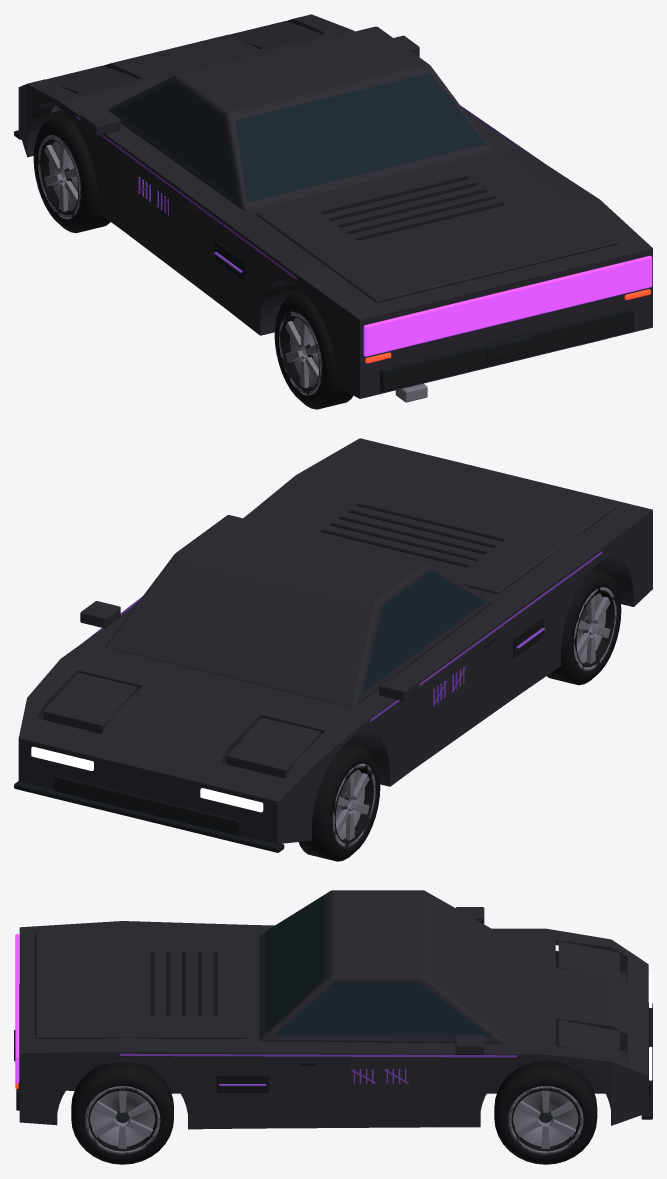
Rendered from ns-vesper-01.glb.
The picture shows the model from 3 angles, top to bottom: view 1: azimuth 30°, elevation 25°; view 2: azimuth 150°, elevation 25°; view 3: azimuth 270°, elevation 25°; orthographic projection. The views are drawn at different scales.
Parts seen in each view (by area): view 1: coachwork, engine-deck, rear-glass, forward-canopy, tail-band, canopy-glass-left, rear-valance, tire-front-left, tire-rear-left, popup-lid-left, popup-lid-right, rim-front-left (+4 smaller); view 2: coachwork, forward-canopy, engine-deck, canopy-glass-left, tire-front-left, tire-rear-left, popup-lid-right, popup-lid-left, nose-intake, front-lip, rim-rear-left, rim-front-left (+5 smaller); view 3: coachwork, engine-deck, forward-canopy, canopy-glass-right, rear-glass, tire-front-right, tire-rear-right, rim-front-right, rim-rear-right, popup-lid-left, popup-lid-right, violet-shoulder-right (+3 smaller).
Boxes of the visible parts, left/top/right/bottom form: coachwork: left=18, top=14, right=652, bottom=398; engine-deck: left=256, top=154, right=617, bottom=302; rear-glass: left=236, top=73, right=485, bottom=202; forward-canopy: left=108, top=26, right=492, bottom=211; tail-band: left=363, top=255, right=652, bottom=356; canopy-glass-left: left=114, top=83, right=237, bottom=199; rear-valance: left=380, top=308, right=633, bottom=391; tire-front-left: left=33, top=115, right=110, bottom=233; tire-rear-left: left=274, top=293, right=353, bottom=409; popup-lid-left: left=46, top=65, right=137, bottom=93; popup-lid-right: left=229, top=21, right=320, bottom=48; rim-front-left: left=38, top=135, right=80, bottom=219; coachwork: left=18, top=438, right=652, bottom=843; forward-canopy: left=105, top=515, right=492, bottom=707; engine-deck: left=268, top=445, right=618, bottom=594; canopy-glass-left: left=362, top=570, right=485, bottom=693; tire-front-left: left=298, top=743, right=380, bottom=861; tire-rear-left: left=546, top=568, right=621, bottom=685; popup-lid-right: left=43, top=672, right=137, bottom=733; popup-lid-left: left=227, top=717, right=320, bottom=778; nose-intake: left=54, top=775, right=240, bottom=835; front-lip: left=14, top=781, right=284, bottom=852; rim-rear-left: left=573, top=587, right=616, bottom=671; rim-front-left: left=332, top=763, right=375, bottom=847; coachwork: left=19, top=921, right=648, bottom=1129; engine-deck: left=35, top=933, right=246, bottom=1038; forward-canopy: left=259, top=890, right=507, bottom=1043; canopy-glass-right: left=274, top=981, right=490, bottom=1036; rear-glass: left=265, top=895, right=324, bottom=1033; tire-front-right: left=494, top=1061, right=597, bottom=1164; tire-rear-right: left=71, top=1062, right=173, bottom=1164; rim-front-right: left=508, top=1086, right=583, bottom=1154; rim-rear-right: left=84, top=1086, right=160, bottom=1154; popup-lid-left: left=558, top=941, right=619, bottom=979; popup-lid-right: left=558, top=1020, right=619, bottom=1057; violet-shoulder-right: left=119, top=1053, right=517, bottom=1057.
Bounding box in the file's own units: 2.3 × 1.32 × 4.47.
